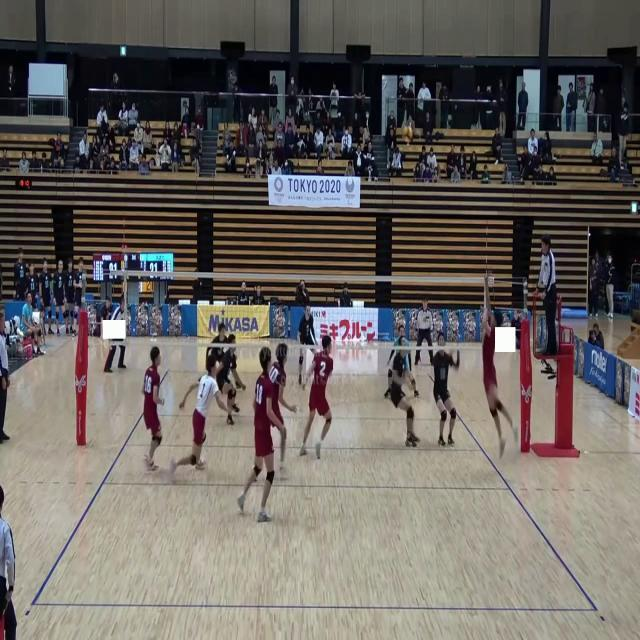volleyball: (402, 127, 414, 142)
